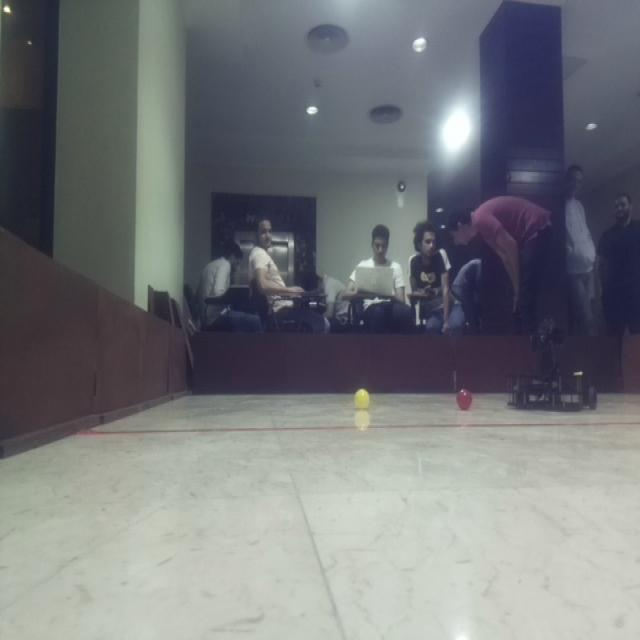ball: (453, 385, 478, 414), (352, 387, 374, 412)
